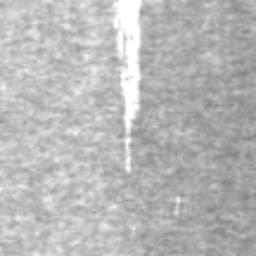White rust: (107, 0, 148, 172), (174, 195, 182, 213)
